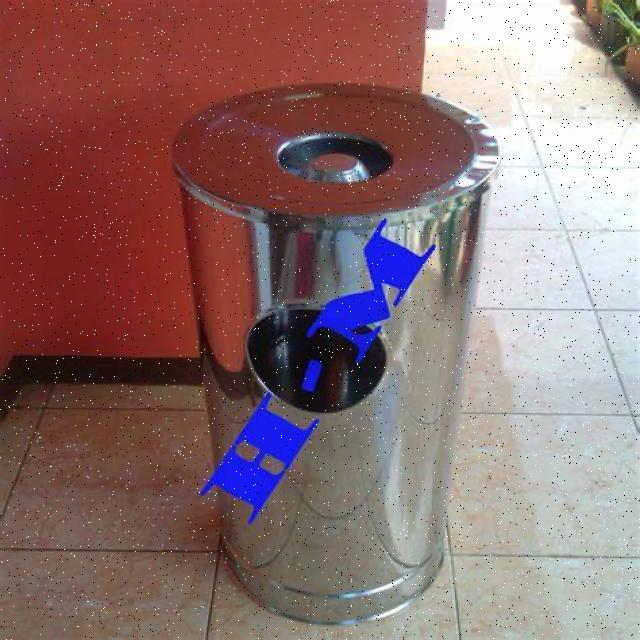garbage container: (164, 72, 530, 631)
